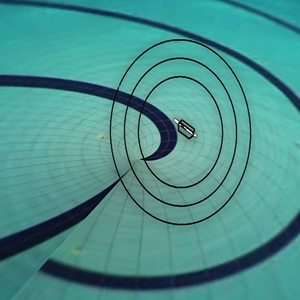circle: (98, 33, 257, 233)
submarine: (166, 109, 208, 148)
